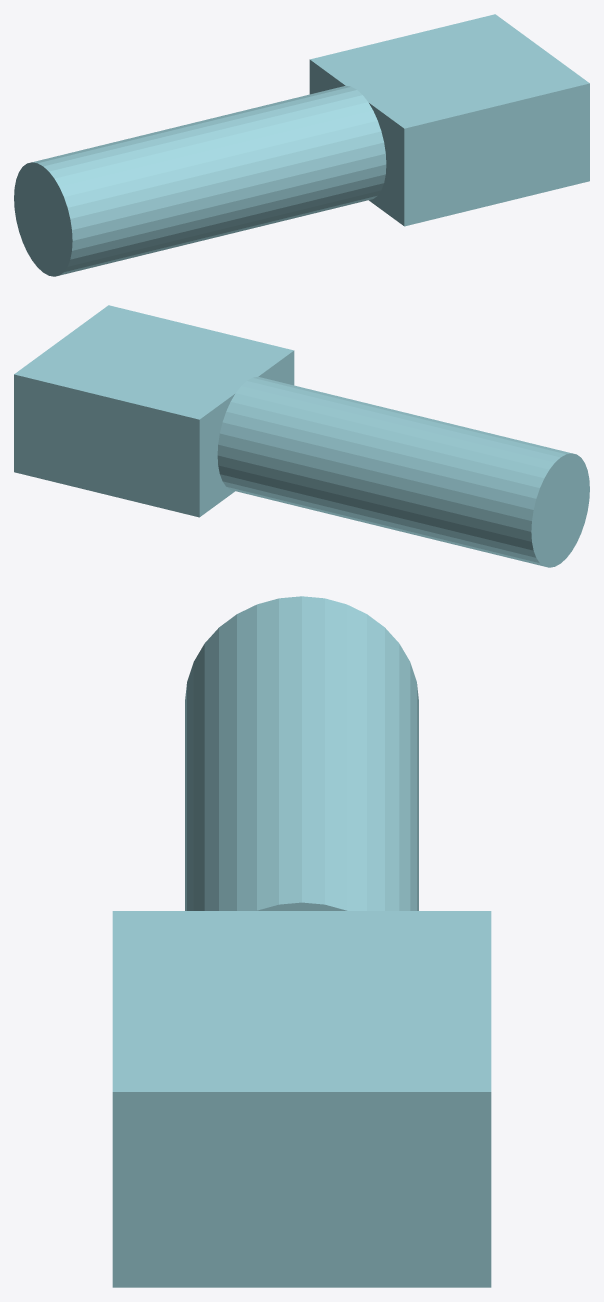
Rendered from cylinder_brush_v9008.obj.
3 renders of one model, top to bottom at view 1: azimuth 30°, elevation 25°; view 2: azimuth 150°, elevation 25°; view 3: azimuth 270°, elevation 25°, orthographic. The views are drawn at different scales.
Size of the model in its own units: 0.2413 by 0.049 by 0.0792.
1 material, 1 textured.
